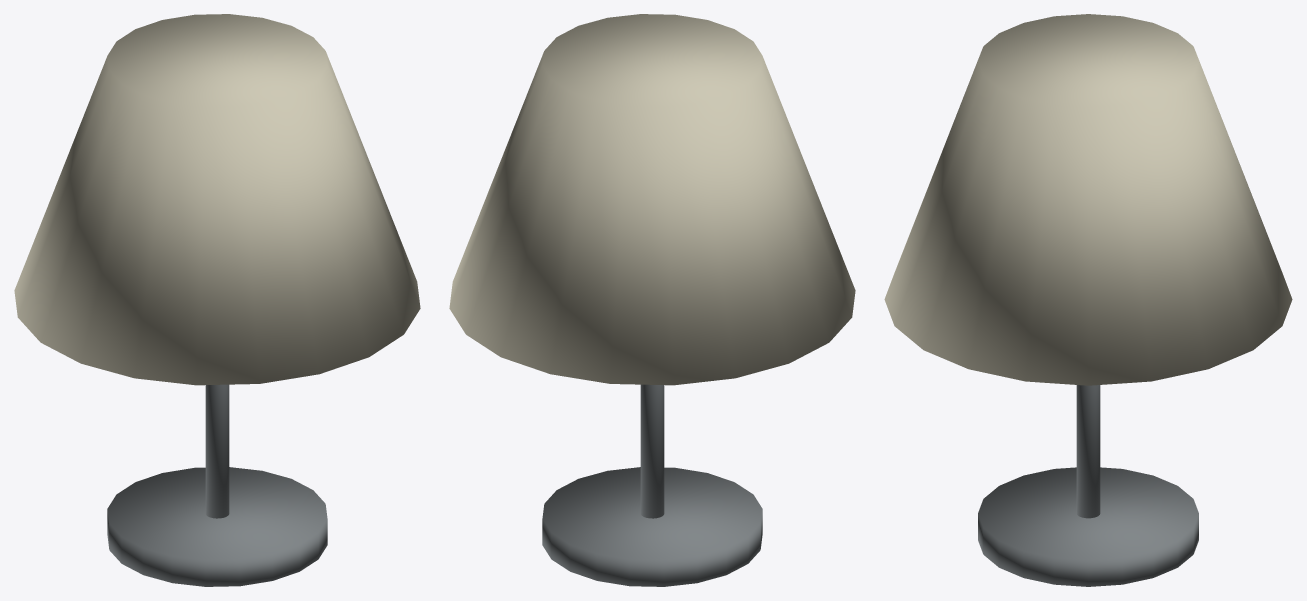
File: bedside-lamp.glb
The picture shows the model from 3 angles, left to right: view 1: azimuth 30°, elevation 25°; view 2: azimuth 150°, elevation 25°; view 3: azimuth 270°, elevation 25°; orthographic projection.
Visible parts, largest first — view 1: Lampshade, Bedside lamp base, Lamp stem; view 2: Lampshade, Bedside lamp base, Lamp stem; view 3: Lampshade, Bedside lamp base, Lamp stem.
Boxes of the visible parts, <box> form: Lampshade: <box>14,14,420,385</box>; Bedside lamp base: <box>107,467,327,586</box>; Lamp stem: <box>205,384,229,518</box>; Lampshade: <box>449,14,855,385</box>; Bedside lamp base: <box>542,467,762,586</box>; Lamp stem: <box>640,384,664,518</box>; Lampshade: <box>884,14,1292,385</box>; Bedside lamp base: <box>978,467,1198,586</box>; Lamp stem: <box>1076,385,1100,518</box>.
Bounding box in the file's own units: 0.48 × 0.6225 × 0.48.
